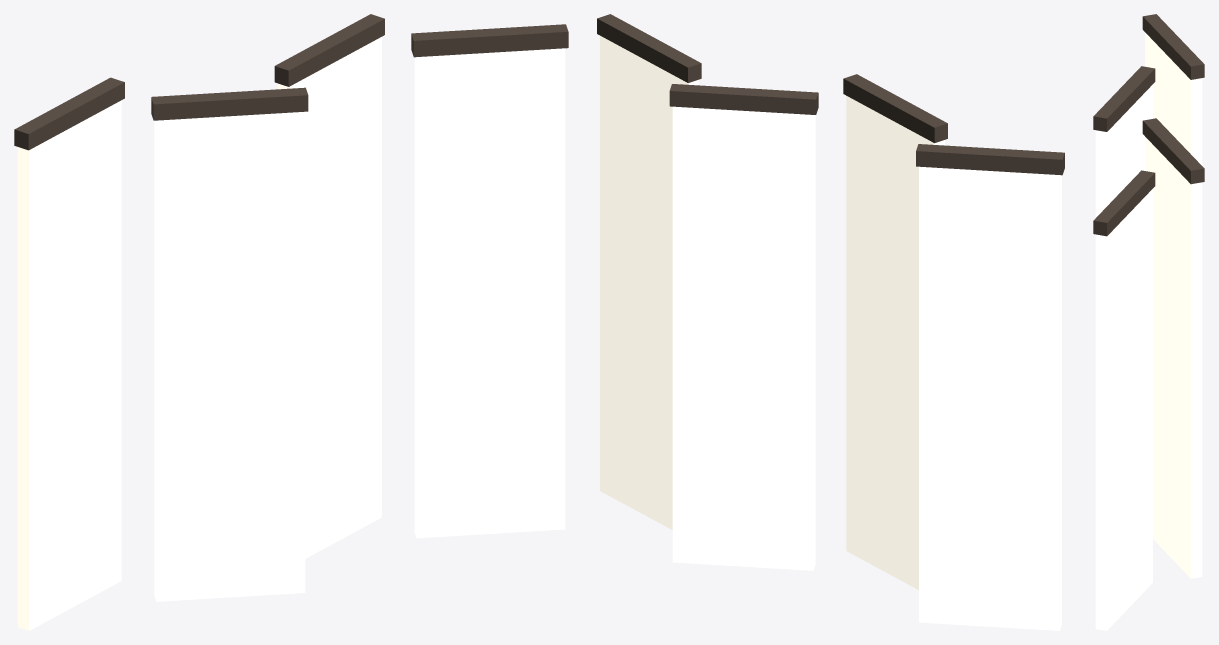
Rendered from prop_byoubu.glb.
3 renders of one model, left to right at view 1: azimuth 30°, elevation 25°; view 2: azimuth 150°, elevation 25°; view 3: azimuth 270°, elevation 25°, orthographic. The views are drawn at different scales.
Visible parts, largest first — view 1: byoubu; view 2: byoubu; view 3: byoubu.
Boxes of the visible parts, bbox=[...] form: byoubu: bbox=[14, 14, 568, 630]; byoubu: bbox=[597, 14, 1064, 630]; byoubu: bbox=[1093, 14, 1204, 630].
Size of the model in its own units: 2 by 1.83 by 0.4504.
